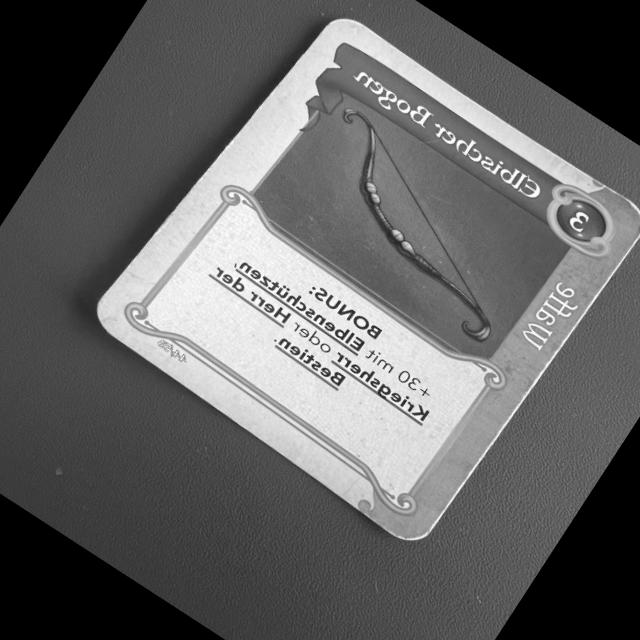Elven Longbow: (80, 5, 640, 555)
